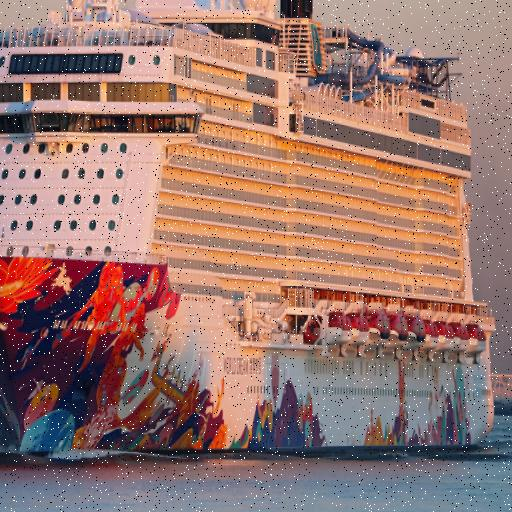cruises: (1, 1, 508, 461)
